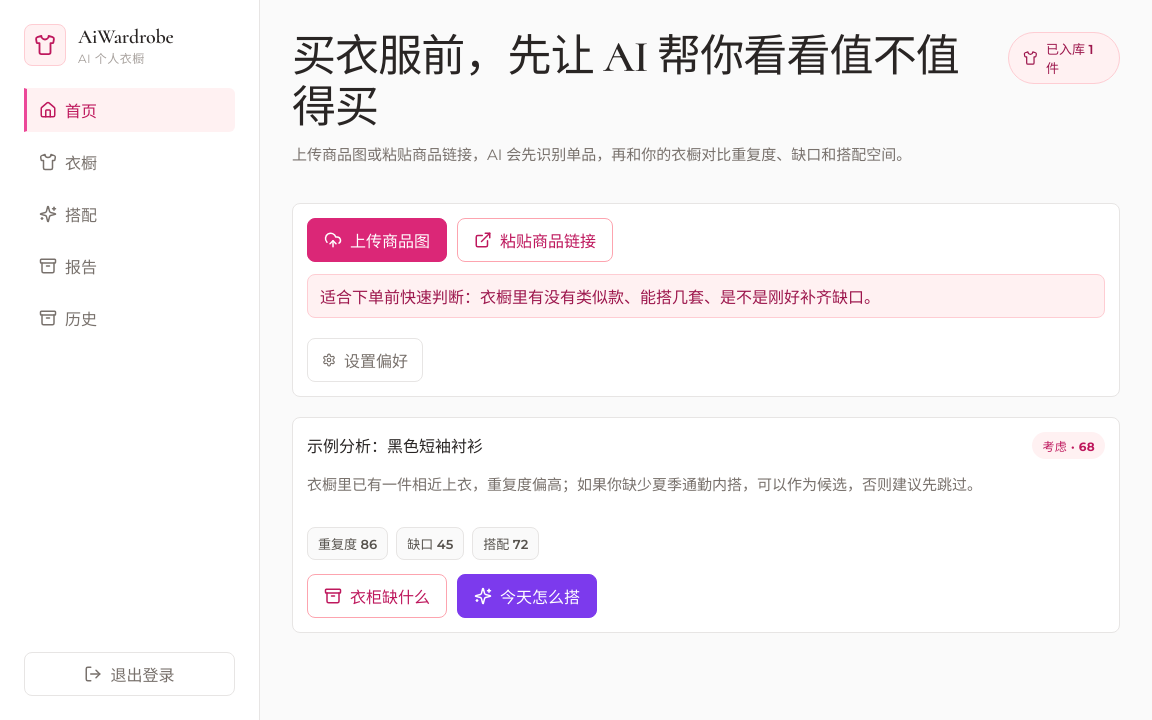
Scenario: AiWardrobe app › deletes outfits from history and favorites
The image size is (1152, 720).
Check: the heading "买衣服前，先让 AI 帮你看看值不值得买" is shown, box [292, 32, 990, 133]
Step 1. Click the button "历史" → [130, 318], box [24, 296, 235, 340]
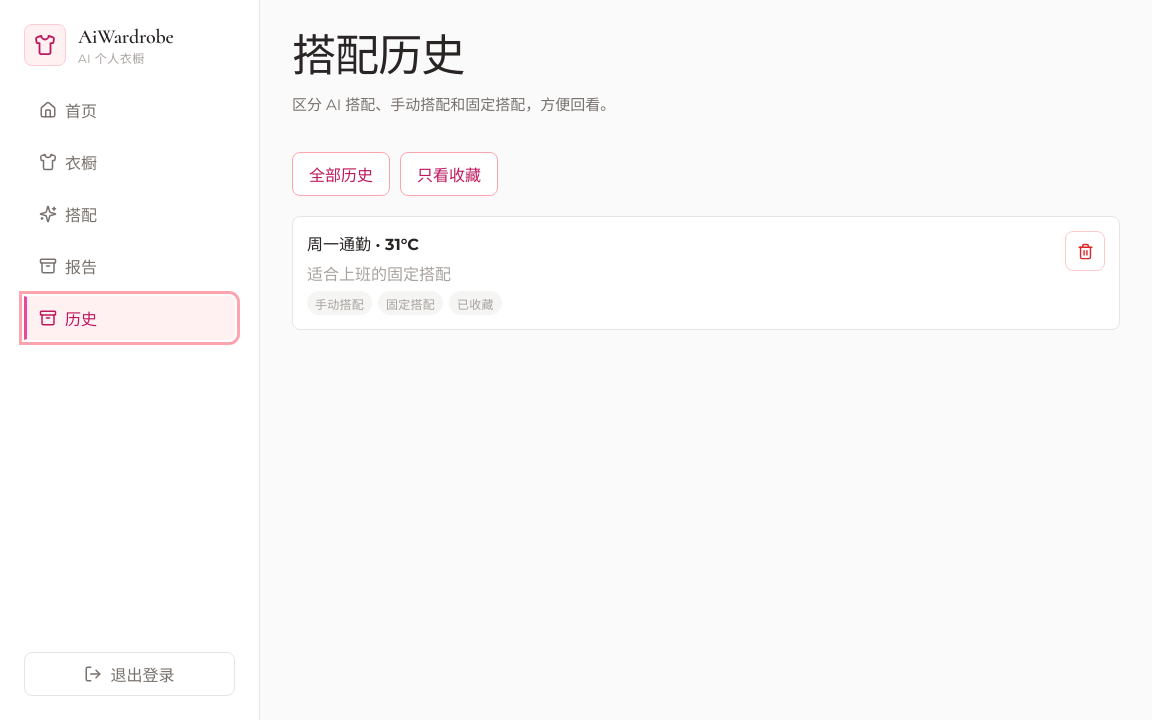
Check: the text "周一通勤 · 31°C" is shown, box [307, 235, 419, 254]
Step 2. Click the button named "删除搭配" → [1085, 251], box [1065, 231, 1105, 271]
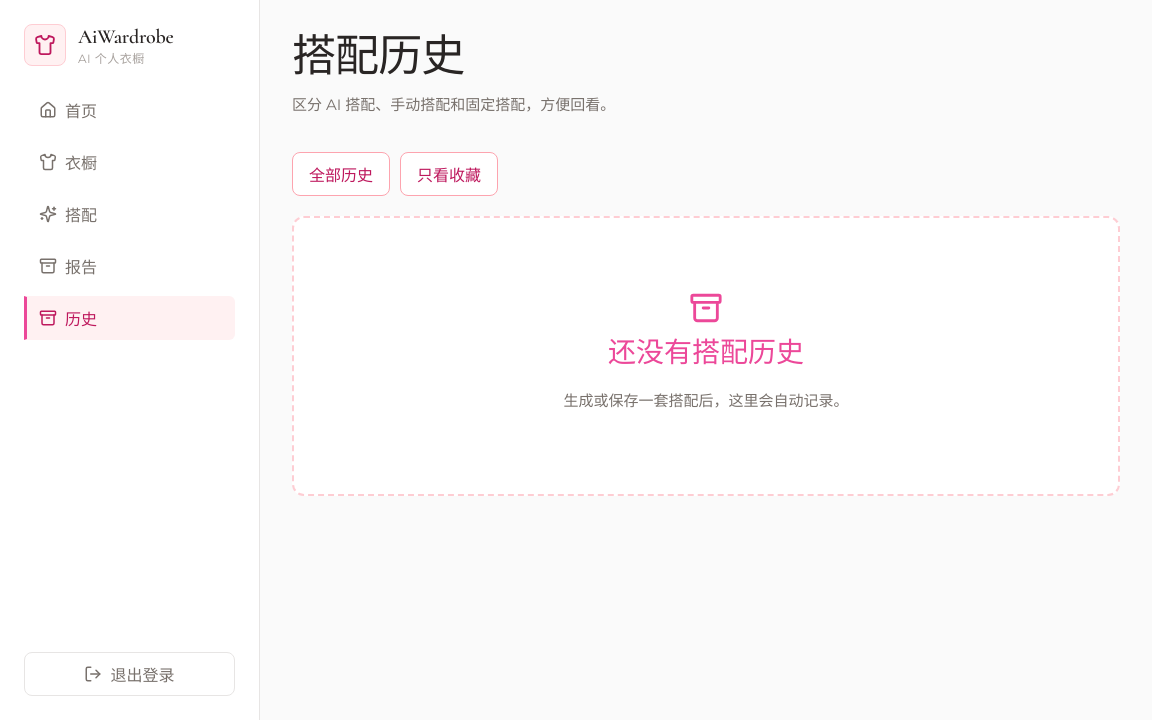
Check: the button "周一通勤 · 31°C" is gone
Check: the heading "还没有搭配历史" is shown, box [608, 337, 804, 369]
